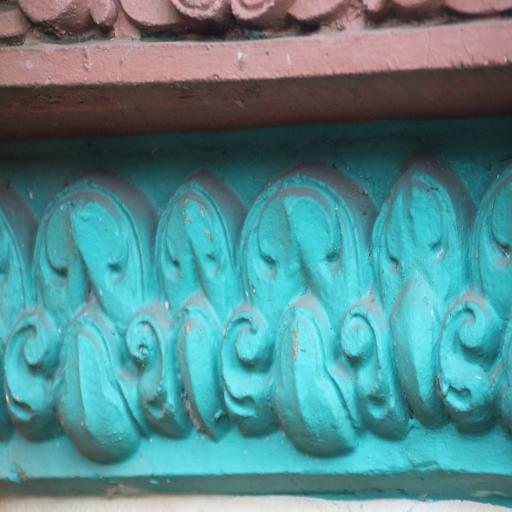la: (6, 186, 168, 467), (240, 165, 388, 459), (350, 150, 500, 436), (151, 178, 255, 441)
